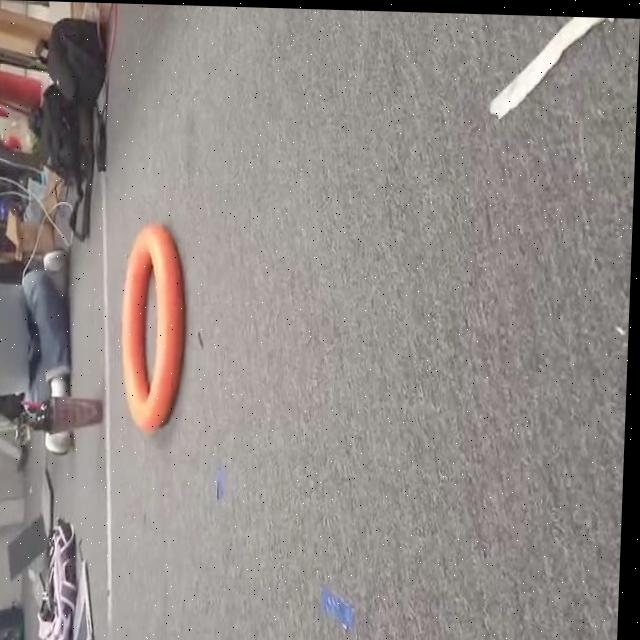note: (113, 215, 204, 444)
